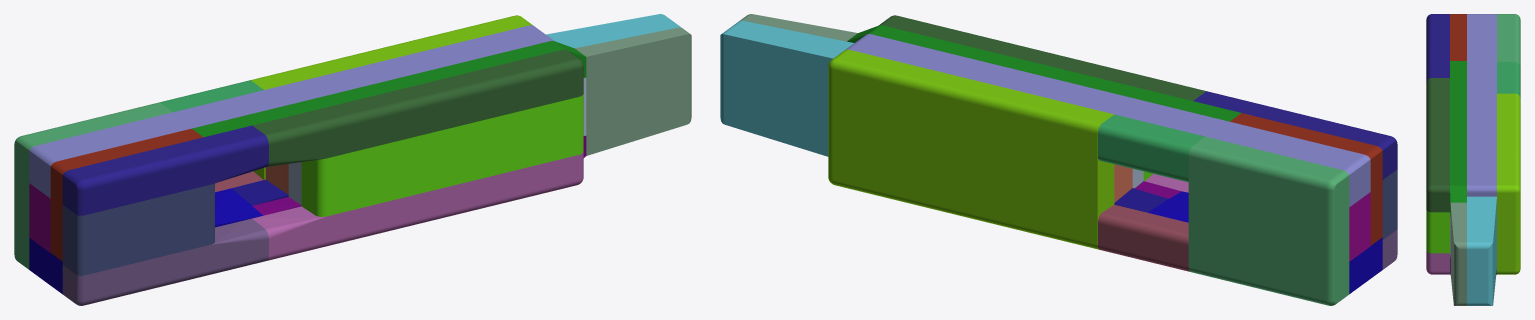
Rendered from 3_body.obj.
The picture shows the model from 3 angles, left to right: view 1: azimuth 30°, elevation 25°; view 2: azimuth 150°, elevation 25°; view 3: azimuth 270°, elevation 25°; orthographic projection. The views are drawn at different scales.
Visible parts, largest first — view 1: geometry_17, geometry_19, geometry_12, geometry_0, geometry_7, geometry_18, geometry_16, geometry_1, geometry_8, geometry_3, geometry_4, geometry_15 (+9 smaller); view 2: geometry_4, geometry_3, geometry_2, geometry_12, geometry_8, geometry_10, geometry_13, geometry_19, geometry_18, geometry_15, geometry_5, geometry_14 (+5 smaller); view 3: geometry_12, geometry_4, geometry_2, geometry_19, geometry_8, geometry_0, geometry_18, geometry_3, geometry_17, geometry_15, geometry_10, geometry_7.
Part boxes in pixels (<box>): geometry_17: <box>301,94,583,216</box>; geometry_19: <box>252,49,583,166</box>; geometry_12: <box>29,25,553,198</box>; geometry_0: <box>575,27,691,155</box>; geometry_7: <box>252,152,583,260</box>; geometry_18: <box>62,125,268,215</box>; geometry_16: <box>62,183,214,275</box>; geometry_1: <box>62,218,268,305</box>; geometry_8: <box>192,41,586,137</box>; geometry_3: <box>14,102,172,269</box>; geometry_4: <box>250,15,533,179</box>; geometry_15: <box>50,128,202,261</box>; geometry_4: <box>828,49,1114,249</box>; geometry_3: <box>1188,136,1349,305</box>; geometry_2: <box>720,20,854,156</box>; geometry_12: <box>845,34,1370,206</box>; geometry_8: <box>847,25,1240,121</box>; geometry_10: <box>1098,114,1204,182</box>; geometry_13: <box>1098,204,1189,271</box>; geometry_19: <box>879,15,1206,100</box>; geometry_18: <box>1193,91,1397,179</box>; geometry_15: <box>1230,113,1382,245</box>; geometry_5: <box>1148,191,1382,294</box>; geometry_14: <box>1349,192,1370,261</box>; geometry_12: <box>1467,14,1496,196</box>; geometry_4: <box>1497,93,1520,274</box>; geometry_2: <box>1467,196,1496,305</box>; geometry_19: <box>1426,78,1449,212</box>; geometry_8: <box>1450,61,1466,216</box>; geometry_0: <box>1450,202,1466,305</box>; geometry_18: <box>1426,14,1449,82</box>; geometry_3: <box>1497,14,1520,66</box>; geometry_17: <box>1426,210,1449,253</box>; geometry_15: <box>1450,14,1466,60</box>; geometry_10: <box>1497,62,1520,97</box>; geometry_7: <box>1426,251,1449,274</box>.
Size of the model in its own units: 0.1901 by 0.036 by 0.0345.
